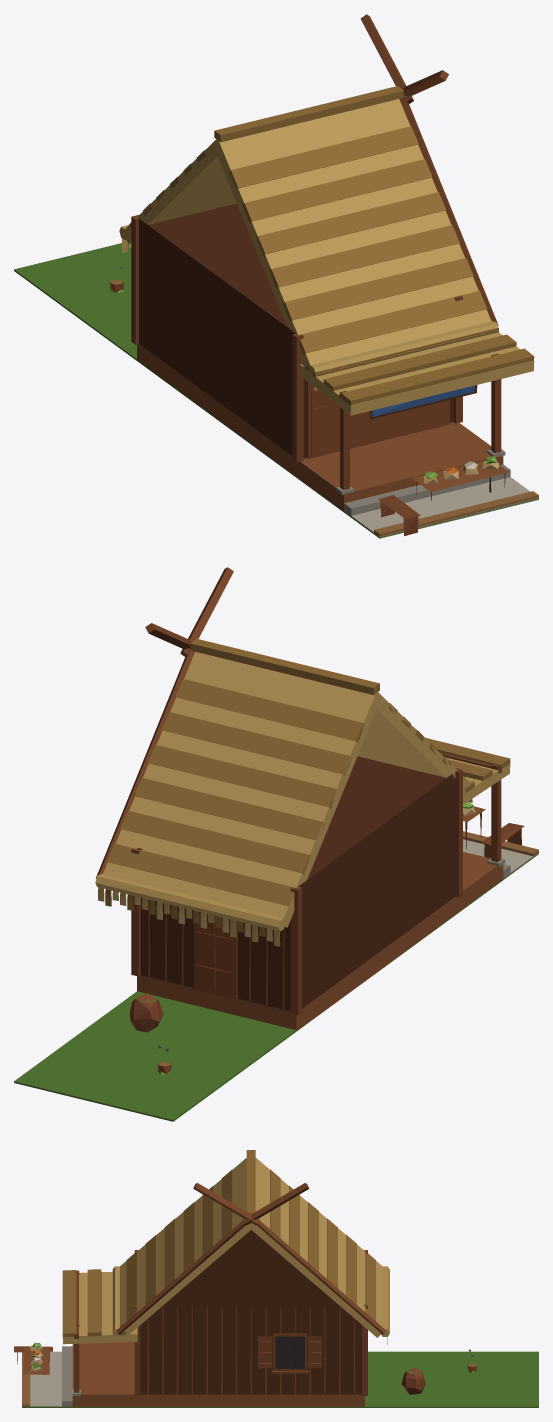
The model's file is bay1_right.glb.
The picture shows the model from 3 angles, top to bottom: view 1: azimuth 30°, elevation 25°; view 2: azimuth 150°, elevation 25°; view 3: azimuth 270°, elevation 25°; orthographic projection. The views are drawn at different scales.
Visible parts, largest first — view 1: body; view 2: body; view 3: body, windows.
Part boxes in pixels (<box>): body: <box>14,14,538,538</box>; body: <box>14,567,538,1121</box>; body: <box>14,1150,538,1407</box>; windows: <box>275,1336,304,1368</box>.
Bounding box in the file's own units: 4.91 × 8.15 × 16.15.
